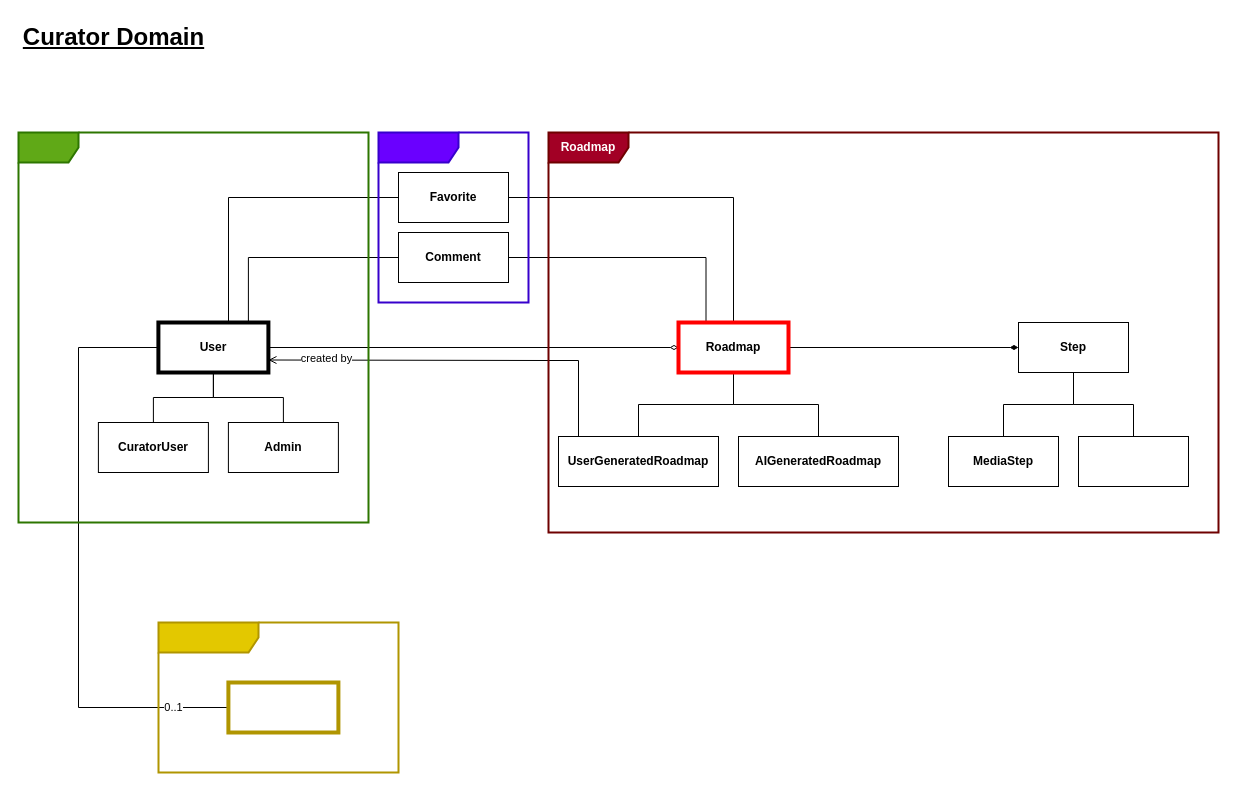
Image size: 1236x790. Some labels were removed from this diagram. Each missing label, with the box of its shape:
Authentication: (157, 621, 399, 773)
Identity: (17, 131, 369, 523)
InfoStep: (1078, 436, 1188, 486)
Interaction: (377, 131, 529, 303)
